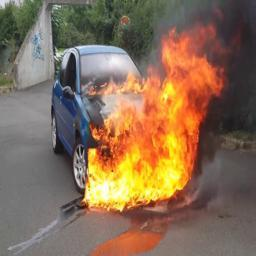fire: (83, 23, 225, 209)
